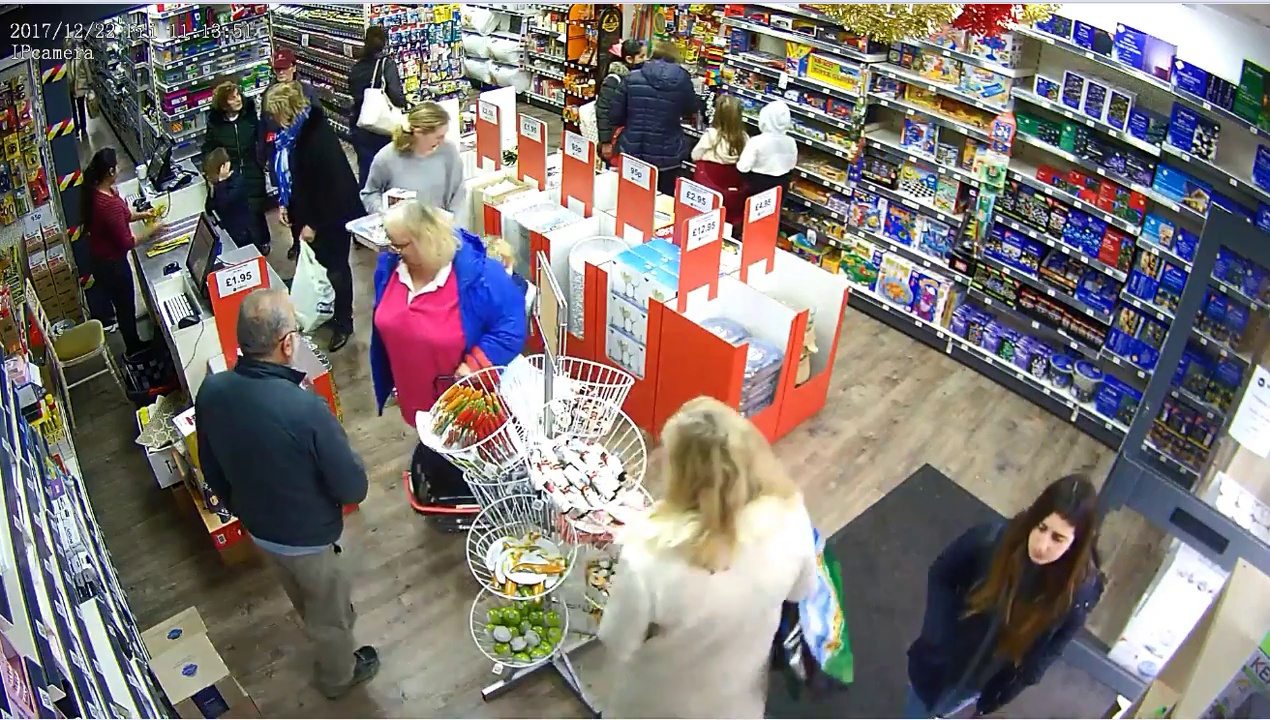face: (1016, 508, 1073, 568), (388, 226, 414, 269), (218, 91, 245, 115)
